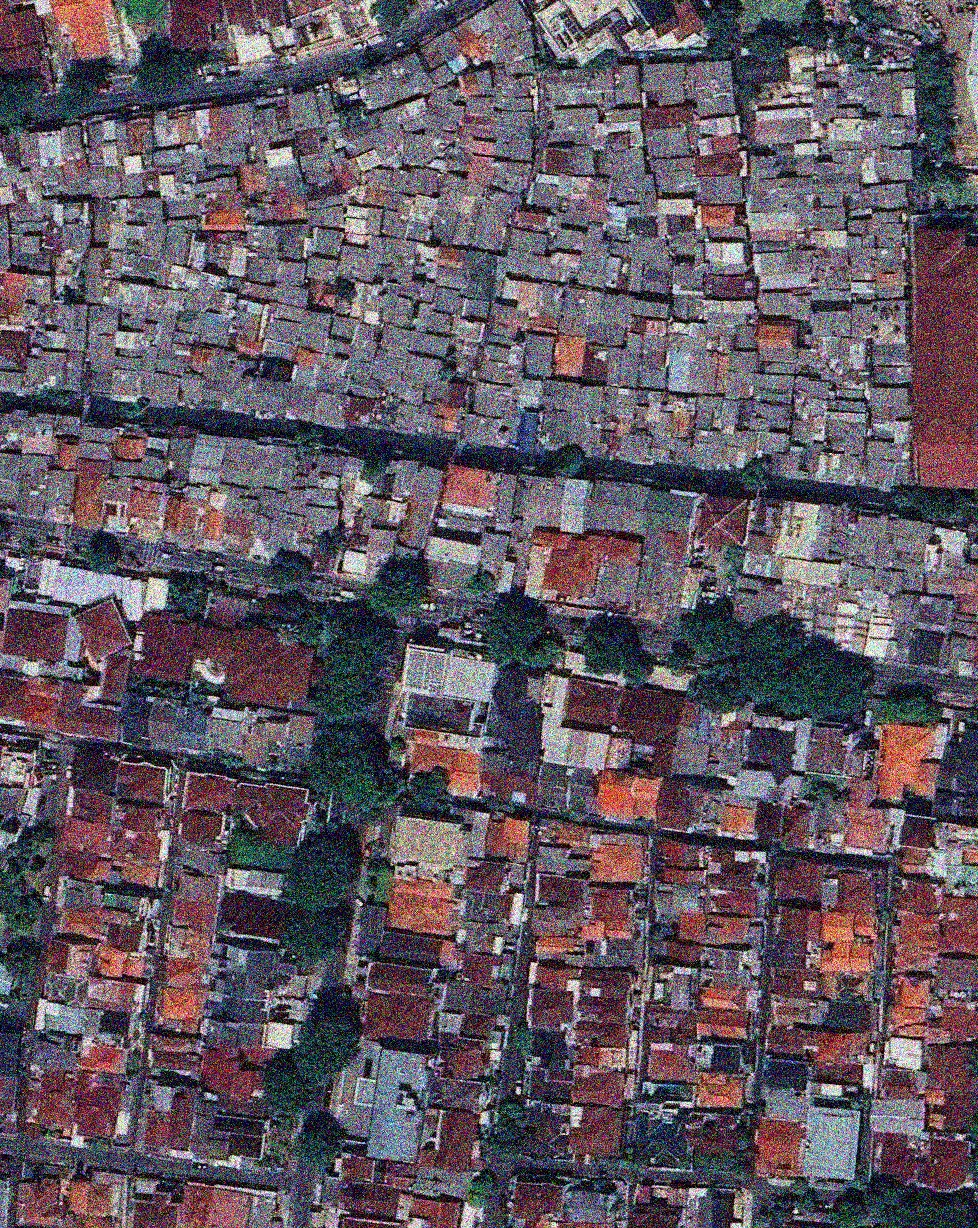building: (688, 476, 978, 681), (740, 493, 939, 603), (515, 817, 643, 969), (912, 227, 977, 487), (791, 366, 909, 482), (764, 925, 879, 1031), (189, 619, 320, 712), (412, 0, 541, 88), (222, 0, 386, 69), (534, 0, 710, 64), (632, 490, 710, 626), (33, 556, 169, 626), (528, 527, 644, 604), (336, 96, 442, 180), (538, 675, 626, 772), (556, 283, 671, 355), (364, 1043, 433, 1163), (583, 475, 699, 545), (200, 933, 283, 1030), (353, 42, 455, 118), (652, 774, 763, 842), (455, 860, 528, 957), (186, 1090, 273, 1171), (234, 699, 320, 778), (482, 664, 551, 761), (398, 725, 488, 798), (399, 641, 498, 705), (743, 495, 835, 563), (873, 721, 946, 806), (226, 778, 312, 850), (828, 586, 900, 660), (387, 812, 471, 875), (573, 965, 635, 1050), (68, 591, 139, 665), (611, 682, 687, 749), (539, 379, 606, 454), (134, 607, 199, 684), (539, 530, 606, 603), (536, 713, 615, 774), (605, 315, 670, 389), (218, 436, 299, 495), (385, 875, 462, 937), (416, 1104, 482, 1176), (153, 955, 212, 1035), (529, 760, 605, 822), (568, 222, 631, 295), (392, 460, 444, 548), (802, 1105, 862, 1181), (427, 1051, 496, 1117), (49, 0, 125, 59), (429, 173, 488, 249), (509, 525, 571, 597), (176, 1182, 275, 1227), (642, 1004, 697, 1083), (471, 748, 542, 809), (747, 177, 814, 241), (932, 727, 977, 821), (215, 888, 290, 944), (361, 990, 435, 1045), (0, 606, 70, 663), (630, 1106, 694, 1168), (467, 185, 522, 256), (818, 909, 878, 974), (592, 768, 662, 823), (679, 490, 722, 579), (401, 692, 486, 737), (706, 849, 763, 916), (377, 925, 460, 971), (201, 1047, 271, 1100), (72, 1075, 127, 1141), (567, 1102, 628, 1160), (603, 142, 657, 205), (561, 676, 624, 730), (202, 1013, 279, 1056), (752, 1117, 806, 1178), (693, 492, 751, 548), (682, 58, 737, 117), (742, 724, 796, 784), (881, 515, 936, 573), (0, 269, 53, 329), (519, 1100, 571, 1161), (302, 160, 364, 211), (0, 268, 53, 327), (0, 0, 44, 70), (53, 699, 123, 743), (21, 126, 69, 188), (551, 332, 610, 382), (649, 870, 708, 920), (70, 457, 110, 530), (815, 137, 871, 189), (920, 1137, 972, 1193), (184, 229, 242, 279), (33, 1068, 80, 1129), (249, 143, 303, 196), (510, 278, 565, 330), (441, 462, 497, 512), (890, 972, 933, 1037), (0, 409, 58, 457), (113, 757, 172, 804), (67, 744, 121, 794), (365, 959, 434, 998), (78, 975, 147, 1014), (564, 582, 645, 615), (23, 347, 85, 390), (168, 0, 222, 49), (671, 722, 719, 777), (223, 941, 279, 988), (667, 351, 728, 394), (518, 475, 564, 532), (28, 1031, 83, 1078), (340, 1178, 403, 1219), (181, 769, 237, 815), (770, 857, 827, 902), (868, 1096, 929, 1138), (502, 247, 571, 284), (484, 811, 533, 863), (413, 1162, 478, 1201), (509, 1177, 564, 1223), (422, 85, 466, 142), (67, 1172, 124, 1216), (122, 475, 172, 525), (873, 1132, 923, 1182), (147, 1029, 202, 1074), (843, 804, 893, 853), (440, 1032, 489, 1082), (286, 86, 338, 133), (666, 321, 735, 356), (627, 1184, 683, 1227), (443, 979, 508, 1016), (157, 492, 206, 541), (848, 511, 890, 568), (559, 1185, 616, 1227), (805, 722, 849, 776), (106, 247, 170, 284), (222, 862, 286, 899), (423, 557, 478, 600), (810, 449, 869, 489), (649, 963, 699, 1010), (332, 278, 383, 324), (321, 143, 367, 194), (767, 993, 827, 1032), (570, 1066, 627, 1107), (493, 56, 536, 110), (163, 1087, 198, 1152), (44, 937, 98, 979), (186, 432, 227, 487), (555, 475, 593, 534), (939, 895, 977, 954), (750, 107, 810, 144), (60, 815, 114, 856), (222, 0, 289, 33), (929, 1046, 977, 1092), (53, 199, 93, 254), (590, 842, 644, 882), (34, 997, 88, 1037), (206, 350, 250, 399), (96, 649, 135, 704), (695, 1070, 747, 1111), (869, 70, 915, 116), (17, 1179, 61, 1227), (732, 583, 786, 622), (198, 191, 248, 233), (533, 762, 573, 814), (177, 808, 227, 849), (459, 248, 498, 300), (58, 846, 110, 885), (616, 176, 661, 221), (781, 556, 844, 588), (544, 69, 601, 104), (407, 1193, 464, 1228), (772, 904, 823, 943), (423, 534, 483, 567), (896, 909, 942, 952), (700, 946, 747, 988), (175, 842, 228, 879), (309, 517, 353, 561), (651, 155, 698, 196), (701, 912, 753, 949), (67, 786, 116, 825), (722, 348, 758, 401), (694, 1039, 747, 1075), (147, 699, 183, 752), (767, 934, 817, 972), (647, 1043, 697, 1081), (163, 925, 213, 963), (249, 98, 292, 142), (642, 61, 685, 105), (869, 385, 911, 430), (461, 889, 512, 926), (208, 102, 255, 142), (158, 985, 207, 1023), (760, 1086, 810, 1123), (341, 203, 384, 246), (836, 870, 879, 913), (528, 988, 573, 1029), (221, 436, 267, 476), (51, 244, 87, 295), (695, 1007, 749, 1041), (475, 748, 511, 799), (762, 1053, 810, 1091), (490, 155, 534, 196), (821, 998, 874, 1032), (170, 898, 218, 935), (655, 836, 707, 870), (656, 778, 690, 830), (173, 703, 209, 752), (814, 1032, 870, 1063), (114, 801, 165, 835), (243, 377, 291, 413), (585, 936, 639, 968), (866, 423, 909, 463), (912, 593, 956, 632), (766, 1024, 818, 1057), (78, 1042, 130, 1075), (530, 959, 580, 993), (645, 124, 692, 160), (85, 251, 118, 302), (113, 856, 164, 889), (204, 715, 247, 754), (0, 1011, 25, 1078), (650, 936, 704, 967), (569, 381, 607, 425), (173, 870, 222, 904), (162, 956, 211, 990), (551, 333, 588, 378), (882, 1034, 927, 1071), (490, 472, 521, 525), (710, 886, 763, 917), (906, 627, 946, 668), (336, 243, 378, 282), (460, 412, 508, 446), (296, 308, 333, 352), (104, 917, 148, 954), (52, 678, 88, 723), (645, 405, 694, 438), (463, 859, 509, 894), (282, 381, 321, 422), (470, 381, 512, 419), (640, 102, 695, 131), (286, 89, 323, 132), (527, 1067, 571, 1103), (892, 942, 937, 977), (15, 467, 47, 516), (771, 970, 827, 998), (97, 945, 146, 977), (864, 116, 916, 146), (311, 389, 351, 428), (112, 830, 162, 861), (556, 174, 609, 203), (820, 336, 868, 368), (314, 352, 353, 391), (540, 375, 580, 413), (164, 433, 195, 482), (870, 302, 907, 343), (825, 419, 867, 455), (935, 955, 977, 991), (401, 352, 444, 387), (510, 406, 542, 453), (298, 146, 336, 185), (858, 454, 898, 491), (686, 1125, 737, 1154), (0, 672, 29, 723), (488, 302, 534, 334), (341, 369, 384, 403), (752, 371, 795, 405), (43, 467, 77, 510), (896, 879, 939, 913), (737, 57, 789, 85), (162, 221, 195, 265), (341, 393, 381, 429), (937, 1005, 977, 1041), (733, 767, 778, 799), (606, 347, 641, 388), (811, 1060, 864, 1087), (460, 953, 502, 987), (388, 169, 445, 194), (423, 377, 467, 409), (359, 494, 403, 526), (230, 160, 268, 197), (695, 1191, 734, 1227), (402, 132, 442, 167), (106, 218, 146, 253), (99, 888, 149, 916), (753, 800, 784, 845), (778, 805, 811, 847), (59, 908, 105, 938), (965, 12, 977, 127), (699, 985, 752, 1011), (757, 291, 808, 318), (694, 150, 743, 178), (719, 802, 757, 838), (791, 388, 830, 423), (898, 814, 937, 849), (12, 239, 53, 272), (944, 1091, 977, 1132), (529, 1028, 570, 1061), (696, 176, 744, 204), (746, 400, 792, 429), (704, 241, 747, 272), (477, 357, 520, 388), (381, 293, 419, 328), (308, 223, 346, 258), (43, 972, 82, 1006), (348, 321, 381, 361), (524, 332, 554, 376), (625, 537, 658, 577), (577, 486, 607, 530), (704, 274, 756, 299), (788, 590, 840, 615), (551, 106, 599, 133), (666, 228, 704, 262), (59, 879, 102, 909), (263, 313, 302, 346), (741, 550, 785, 579), (628, 1203, 681, 1227), (196, 311, 232, 346), (755, 319, 797, 349), (136, 449, 172, 484), (839, 64, 873, 101), (406, 165, 445, 197), (866, 181, 909, 210), (408, 329, 451, 358), (234, 32, 274, 63), (141, 1079, 176, 1114), (407, 191, 441, 227), (146, 372, 180, 408), (363, 523, 399, 557), (449, 338, 482, 375), (478, 530, 511, 567), (276, 222, 308, 260), (0, 747, 32, 785), (132, 1200, 177, 1227), (507, 227, 550, 255), (879, 1068, 919, 1098), (697, 131, 743, 157), (89, 199, 115, 245), (365, 70, 400, 104), (369, 237, 402, 273), (457, 67, 495, 98), (629, 237, 671, 265), (595, 110, 642, 135), (490, 111, 533, 138), (758, 270, 813, 291), (272, 187, 307, 220), (378, 323, 414, 355), (373, 353, 405, 389), (245, 220, 281, 252), (614, 883, 642, 924), (18, 131, 49, 168), (150, 111, 181, 148), (459, 1011, 496, 1042), (697, 113, 741, 139), (203, 140, 247, 166), (109, 432, 147, 462), (267, 523, 306, 552), (872, 212, 905, 246), (187, 275, 221, 308), (208, 106, 240, 141), (153, 307, 179, 350), (173, 110, 204, 146), (786, 48, 817, 84), (826, 116, 867, 143), (667, 351, 694, 392), (192, 173, 240, 196), (341, 457, 370, 495), (648, 740, 677, 778), (527, 176, 560, 209), (747, 147, 780, 180), (878, 149, 912, 181), (36, 130, 65, 167), (125, 116, 153, 154), (465, 153, 497, 186), (514, 376, 545, 410), (272, 281, 311, 308), (204, 380, 239, 410), (770, 448, 805, 478), (382, 1161, 417, 1191), (84, 118, 120, 147), (810, 311, 850, 337), (544, 409, 571, 447), (410, 404, 443, 435), (306, 278, 339, 309), (619, 432, 652, 463), (97, 1009, 131, 1039), (514, 205, 553, 231), (165, 196, 211, 218), (59, 124, 87, 160), (154, 348, 190, 376), (116, 281, 152, 309), (813, 248, 850, 275), (611, 62, 643, 93), (246, 252, 277, 284), (86, 331, 117, 363), (431, 285, 464, 315), (442, 142, 472, 175), (294, 128, 328, 157), (176, 372, 205, 406), (699, 204, 741, 227), (408, 241, 440, 271), (442, 377, 471, 410), (339, 1155, 373, 1183), (813, 83, 838, 121), (62, 158, 88, 194), (793, 376, 832, 400), (581, 921, 633, 939), (379, 209, 410, 239), (12, 172, 43, 202), (328, 312, 360, 341), (179, 142, 208, 174), (143, 1110, 168, 1147), (305, 254, 338, 282), (890, 591, 918, 624), (303, 485, 341, 509), (753, 250, 789, 275), (128, 197, 164, 222), (77, 437, 113, 462), (222, 493, 258, 518), (102, 475, 133, 504), (63, 351, 86, 390), (871, 343, 910, 366), (453, 316, 486, 343), (875, 271, 908, 298), (256, 357, 293, 381), (495, 137, 533, 160), (118, 311, 156, 334), (111, 369, 142, 397), (89, 305, 120, 333), (721, 444, 753, 471), (647, 1185, 688, 1206), (811, 289, 850, 311), (80, 423, 119, 445), (226, 244, 251, 278), (305, 505, 339, 530), (676, 913, 705, 942), (0, 330, 29, 359), (424, 309, 455, 336), (630, 316, 668, 338), (275, 259, 307, 285), (433, 245, 466, 270), (11, 201, 52, 221), (0, 1075, 19, 1118), (696, 395, 720, 429), (308, 205, 345, 227), (173, 306, 201, 335), (843, 1008, 872, 1036), (436, 404, 463, 434), (0, 785, 27, 815), (847, 275, 878, 301), (261, 338, 296, 361), (849, 247, 874, 279), (315, 451, 347, 476), (352, 1076, 377, 1108), (536, 935, 578, 954), (874, 247, 907, 271), (543, 145, 570, 174), (570, 145, 597, 174), (340, 548, 369, 575), (323, 334, 353, 360), (872, 365, 911, 385), (0, 130, 21, 167), (850, 303, 872, 338), (462, 94, 494, 118), (109, 460, 154, 477), (574, 199, 607, 222), (548, 249, 581, 272), (264, 145, 297, 168), (269, 24, 297, 51), (85, 365, 113, 392), (58, 304, 87, 330), (203, 507, 225, 541), (363, 167, 394, 191), (231, 333, 263, 356), (810, 610, 837, 637), (461, 114, 494, 136), (757, 431, 790, 453), (404, 218, 433, 243), (506, 55, 536, 79), (240, 281, 276, 301), (517, 281, 540, 312), (811, 229, 848, 248), (483, 341, 513, 364), (666, 437, 692, 463), (247, 196, 274, 221), (190, 346, 216, 371), (690, 440, 714, 467), (55, 441, 78, 469), (435, 267, 465, 288), (728, 351, 758, 372), (346, 358, 374, 380), (293, 345, 321, 367), (289, 0, 332, 14), (121, 152, 146, 176), (292, 363, 318, 386), (347, 342, 378, 361), (115, 330, 146, 349), (658, 198, 694, 214), (0, 368, 24, 392), (462, 298, 489, 319), (144, 433, 171, 454), (758, 348, 798, 362), (194, 108, 212, 139), (206, 291, 235, 310), (827, 399, 866, 413), (259, 490, 286, 510), (848, 341, 867, 369), (115, 121, 130, 156), (467, 137, 496, 155), (153, 149, 182, 167), (236, 298, 265, 316), (497, 96, 533, 110), (144, 220, 168, 241), (816, 191, 847, 207), (580, 921, 606, 940), (397, 279, 424, 297), (641, 350, 666, 369), (0, 964, 14, 997), (88, 176, 111, 196), (792, 140, 820, 156), (413, 0, 447, 13), (41, 331, 67, 348), (20, 233, 42, 253), (65, 330, 86, 350), (147, 289, 167, 309), (608, 204, 627, 225), (848, 218, 871, 235), (107, 169, 122, 195), (159, 174, 176, 196), (837, 336, 867, 348), (577, 1050, 598, 1067), (113, 356, 140, 369), (401, 390, 424, 405), (899, 300, 909, 330), (703, 300, 749, 306), (721, 711, 738, 727), (363, 310, 381, 325), (684, 701, 699, 719), (680, 586, 692, 607), (807, 461, 823, 474), (611, 518, 628, 530), (245, 109, 253, 129), (511, 868, 523, 880), (803, 252, 811, 266), (677, 384, 694, 390)
tree: (288, 707, 384, 807), (776, 633, 875, 727), (568, 609, 659, 701), (478, 594, 572, 679), (724, 601, 815, 688), (353, 548, 439, 636), (284, 1001, 370, 1087), (250, 1048, 328, 1127), (289, 833, 362, 908), (316, 622, 400, 687), (676, 596, 746, 673), (285, 1110, 356, 1181), (479, 1091, 538, 1165), (283, 904, 352, 962), (885, 479, 973, 524), (132, 45, 211, 95), (317, 670, 382, 729), (226, 827, 297, 881), (338, 756, 404, 812), (880, 1189, 977, 1225), (690, 0, 747, 61), (688, 659, 747, 715), (751, 1179, 817, 1228), (295, 601, 354, 652), (0, 867, 45, 932), (877, 688, 941, 732), (0, 70, 43, 134), (54, 65, 107, 116), (5, 817, 56, 867), (790, 1, 836, 56), (265, 544, 315, 594), (908, 40, 958, 90), (923, 89, 956, 163), (406, 766, 453, 814), (731, 448, 777, 497), (860, 1172, 908, 1218), (83, 529, 128, 577), (545, 437, 590, 482), (743, 21, 791, 63), (164, 570, 202, 615), (464, 1164, 501, 1210), (824, 25, 864, 65), (5, 938, 38, 983), (807, 773, 845, 808), (829, 1195, 868, 1228), (846, 0, 884, 32), (356, 455, 389, 488), (698, 1156, 747, 1178), (294, 425, 325, 456), (911, 148, 934, 189), (930, 161, 964, 188), (377, 4, 412, 30), (364, 852, 394, 882), (38, 387, 72, 412), (509, 1021, 533, 1056), (612, 1155, 652, 1175), (468, 568, 493, 599), (120, 393, 148, 419), (586, 53, 619, 75), (26, 853, 52, 879), (845, 1088, 868, 1112), (668, 658, 691, 679), (88, 1133, 112, 1152), (222, 752, 242, 773), (229, 813, 248, 835), (961, 706, 978, 724), (440, 364, 456, 382)
